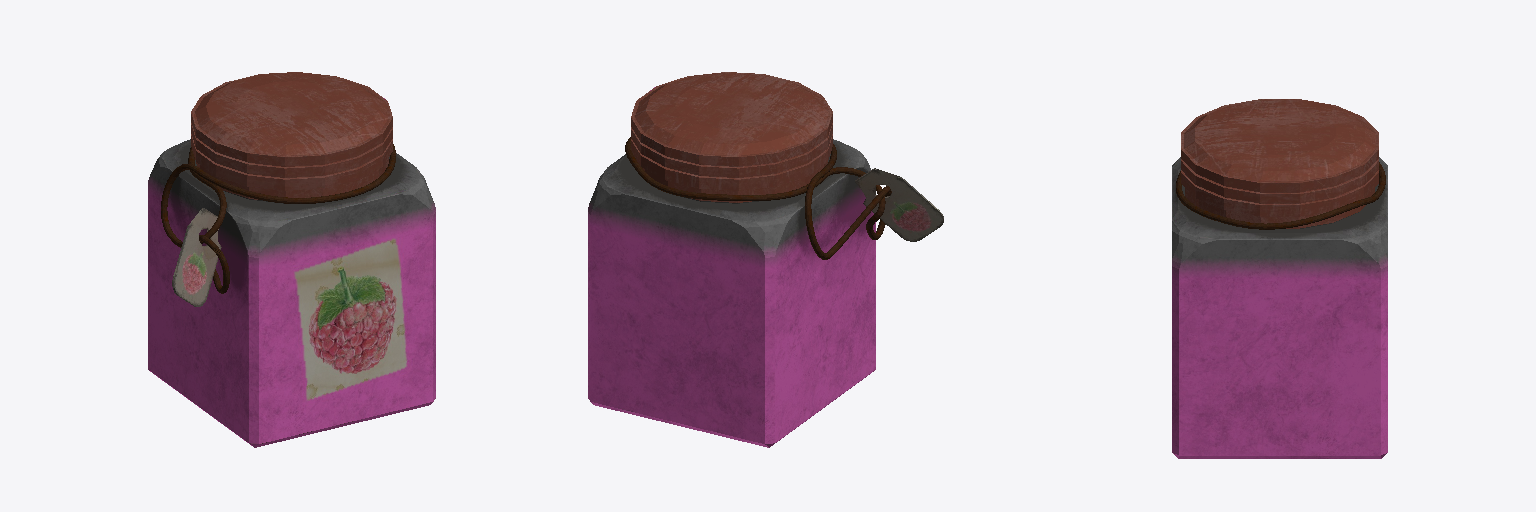
The picture shows the model from 3 angles: view 1: azimuth 30°, elevation 25°; view 2: azimuth 150°, elevation 25°; view 3: azimuth 270°, elevation 25°; orthographic projection.
Parts seen in each view (by area): view 1: jam; view 2: jam; view 3: jam.
Part boxes in pixels (x1,y1,x2,y2): jam: (148,72,435,447); jam: (588,72,943,447); jam: (1172,99,1387,458).
Size of the model in its own units: 2.77 by 2.9 by 2.
1 materials, 1 textured.